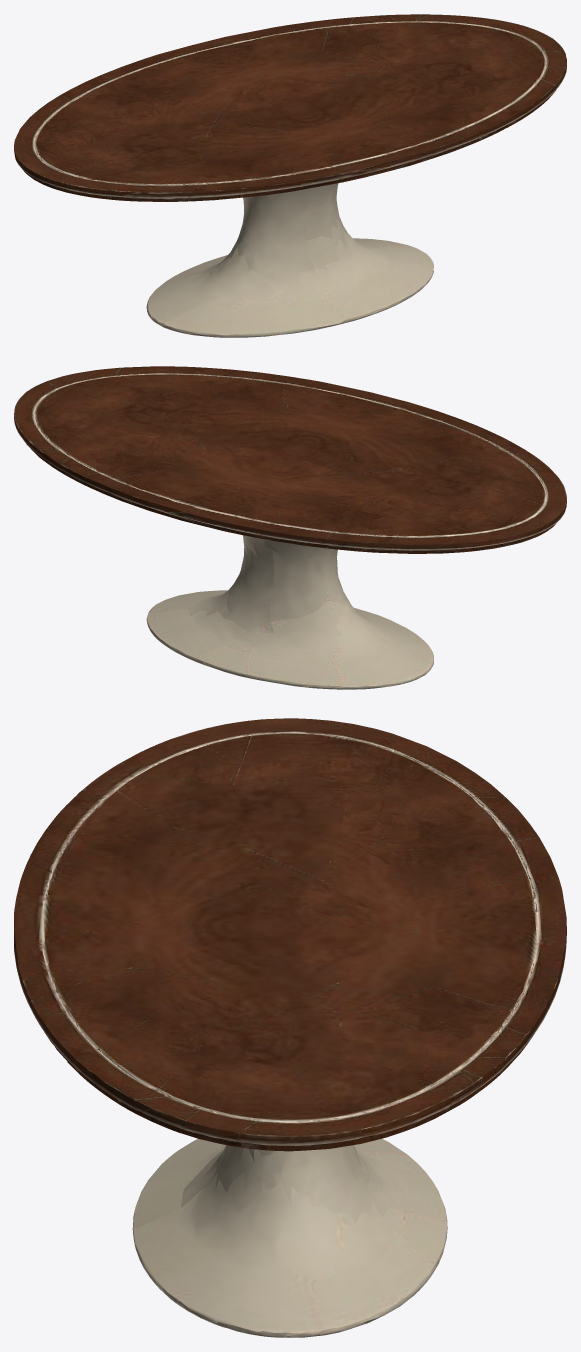
File: jettable.glb
3 views of the same model, one above another, from view 1: azimuth 30°, elevation 25°; view 2: azimuth 150°, elevation 25°; view 3: azimuth 270°, elevation 25° (orthographic). The views are drawn at different scales.
Size of the model in its own units: 1.9 by 0.6442 by 1.06.
Materials: 1 (1 with a texture image).
